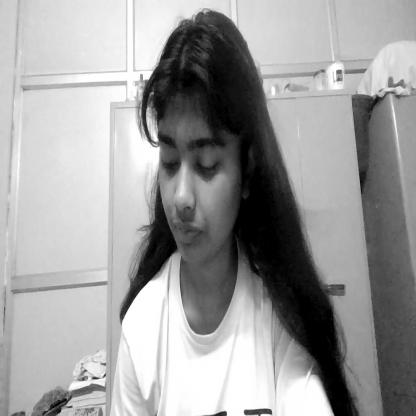Distracted: (142, 6, 257, 280)
